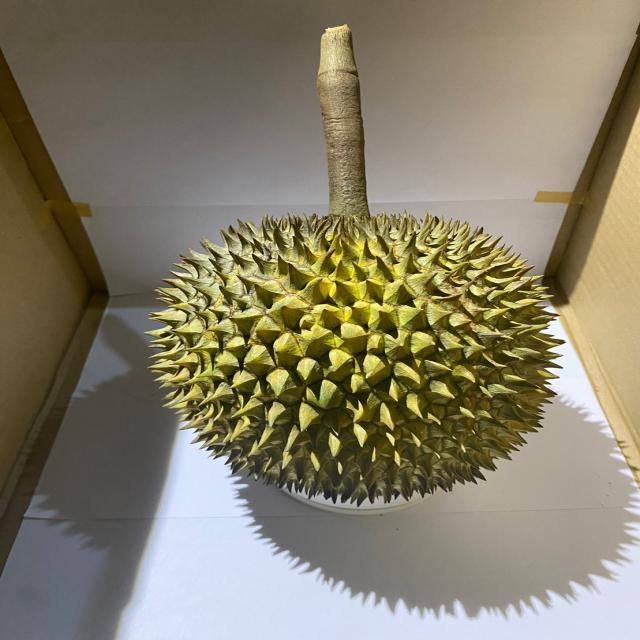immature: (143, 210, 567, 506)
